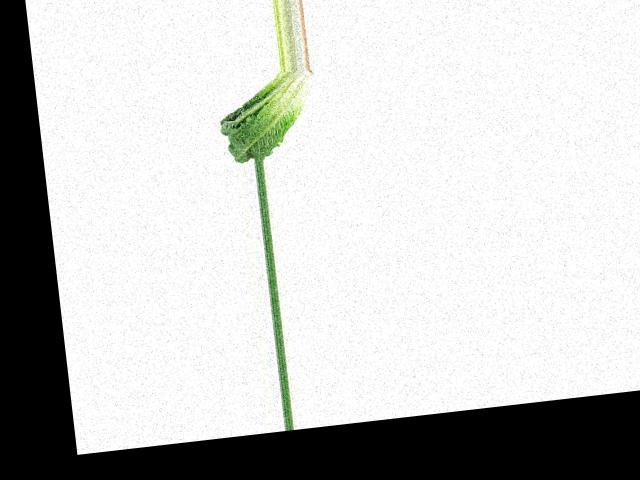lettuce: (213, 68, 323, 164)
